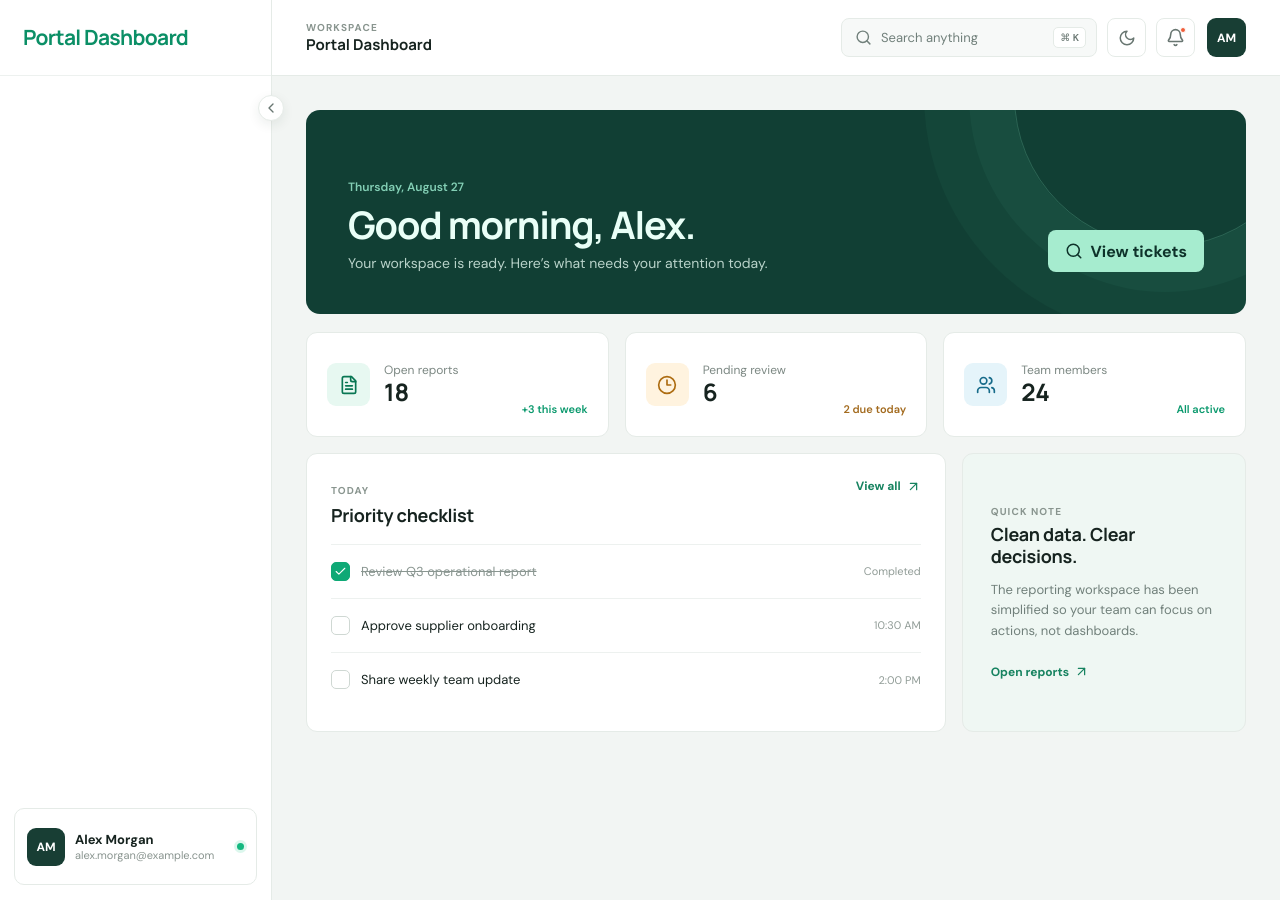
Test: App routing › uses Microsoft logout from the authenticated shell
Click the button with aria-label "User menu for Alex Morgan" at (1226, 38), box [1207,18,1246,57]
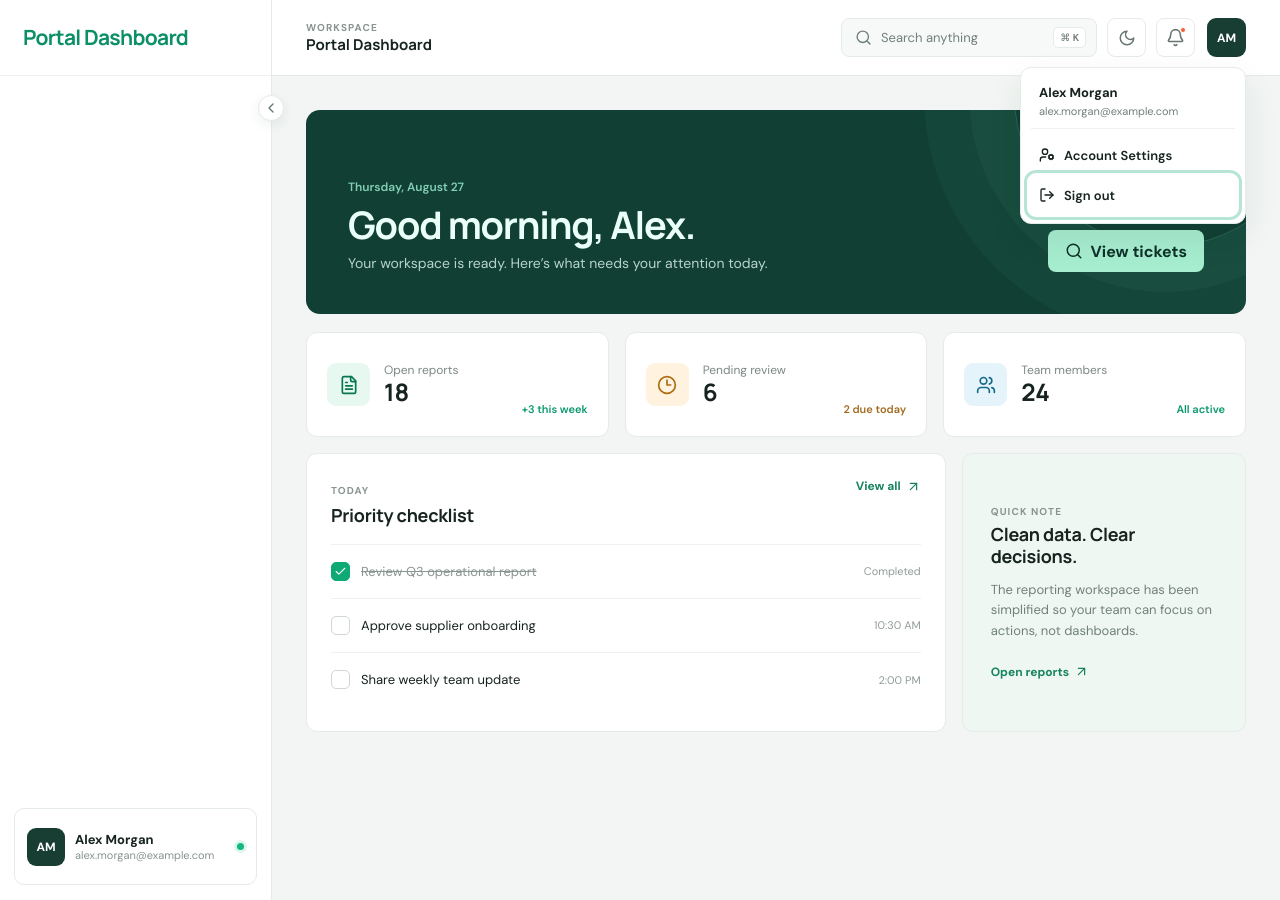
Click the menu item "Sign out" at (1133, 195), box [1029,175,1237,215]
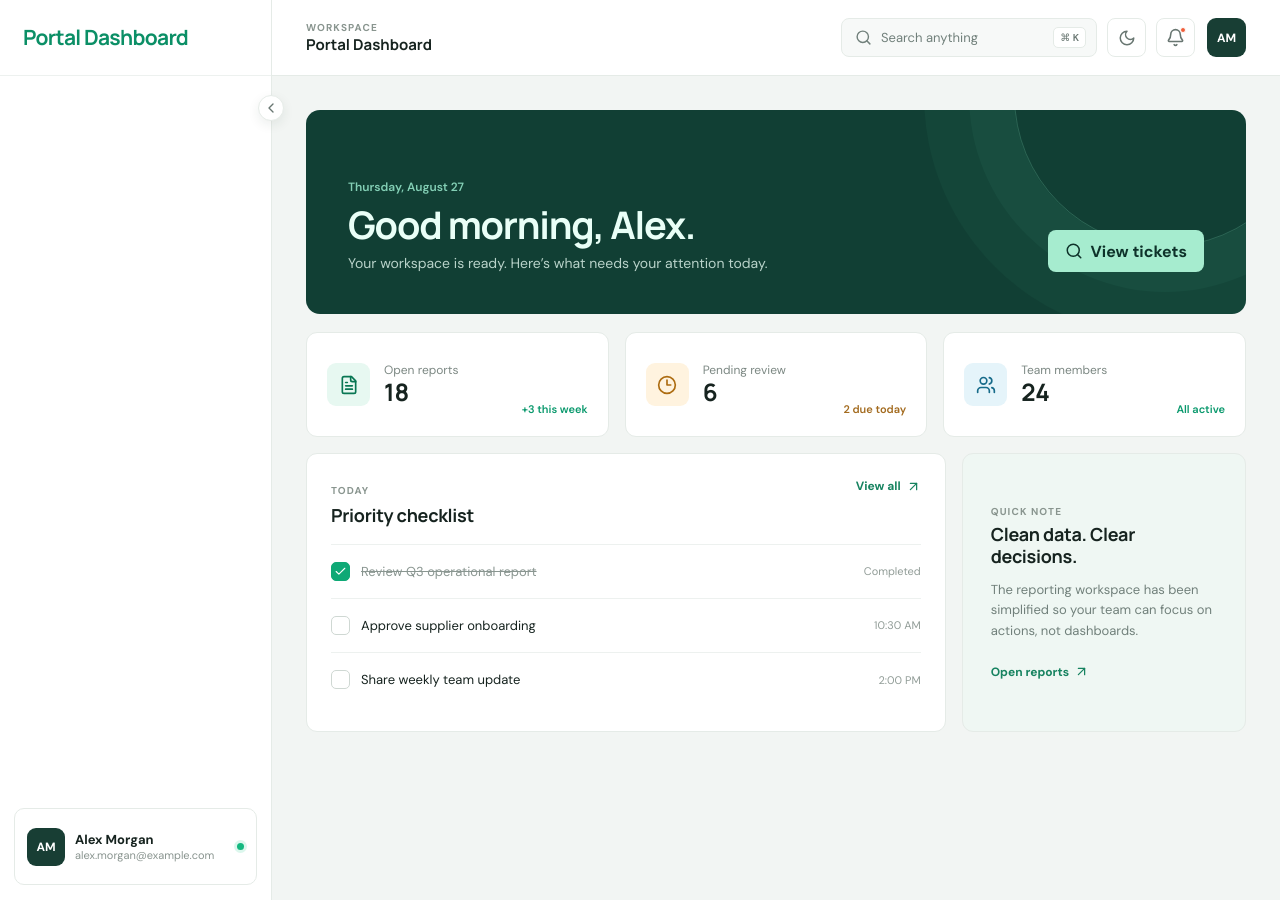
Expected: the menu is gone
